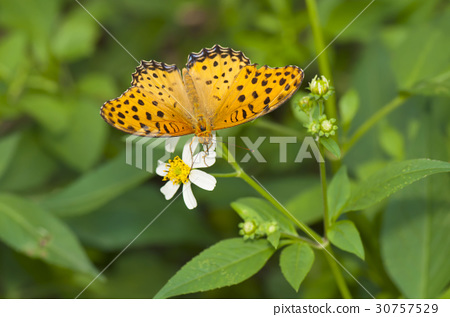Argyreus hyperbius: (95, 41, 305, 180)
butterfly: (97, 43, 307, 182)
